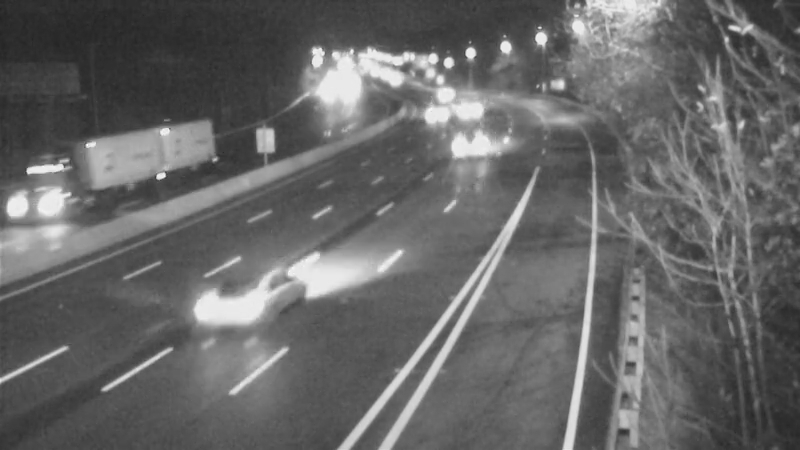vehicle: (15, 168, 95, 248), (421, 69, 471, 119), (441, 82, 491, 132), (403, 86, 453, 136), (437, 123, 487, 173), (211, 275, 261, 325)
